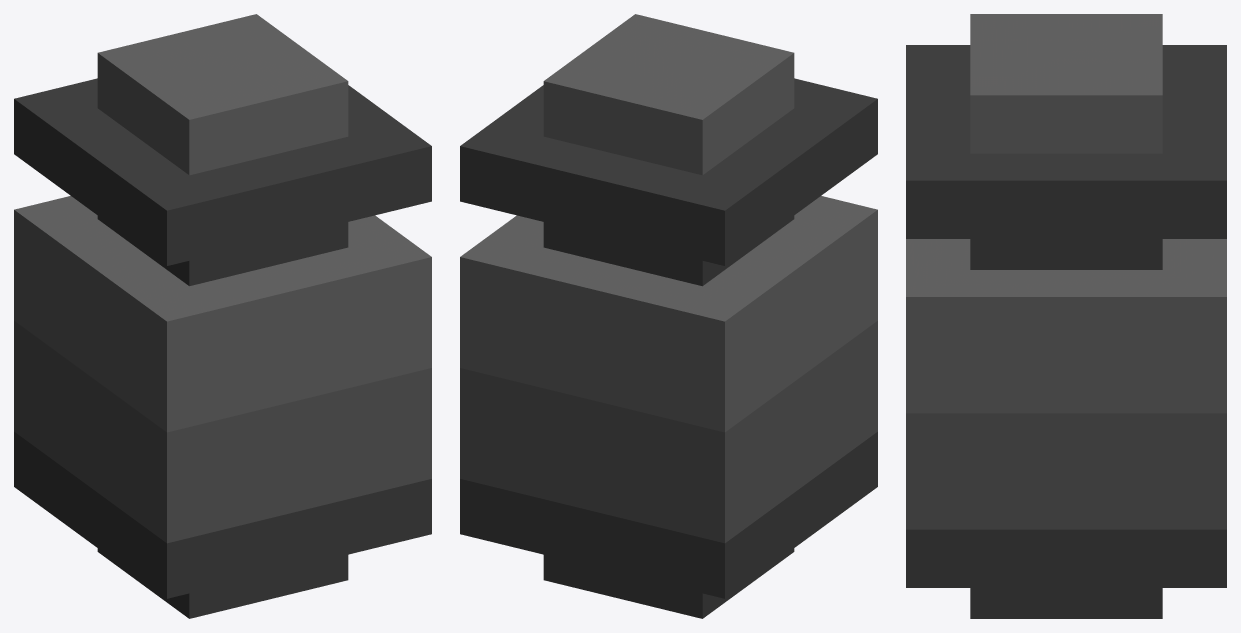
Rendered from Jar 02.obj.
The picture shows the model from 3 angles, left to right: view 1: azimuth 30°, elevation 25°; view 2: azimuth 150°, elevation 25°; view 3: azimuth 270°, elevation 25°; orthographic projection. The views are drawn at different scales.
Bounding box in the file's own units: 0.5 × 0.9 × 0.5.
Materials: 1 (1 with a texture image).
